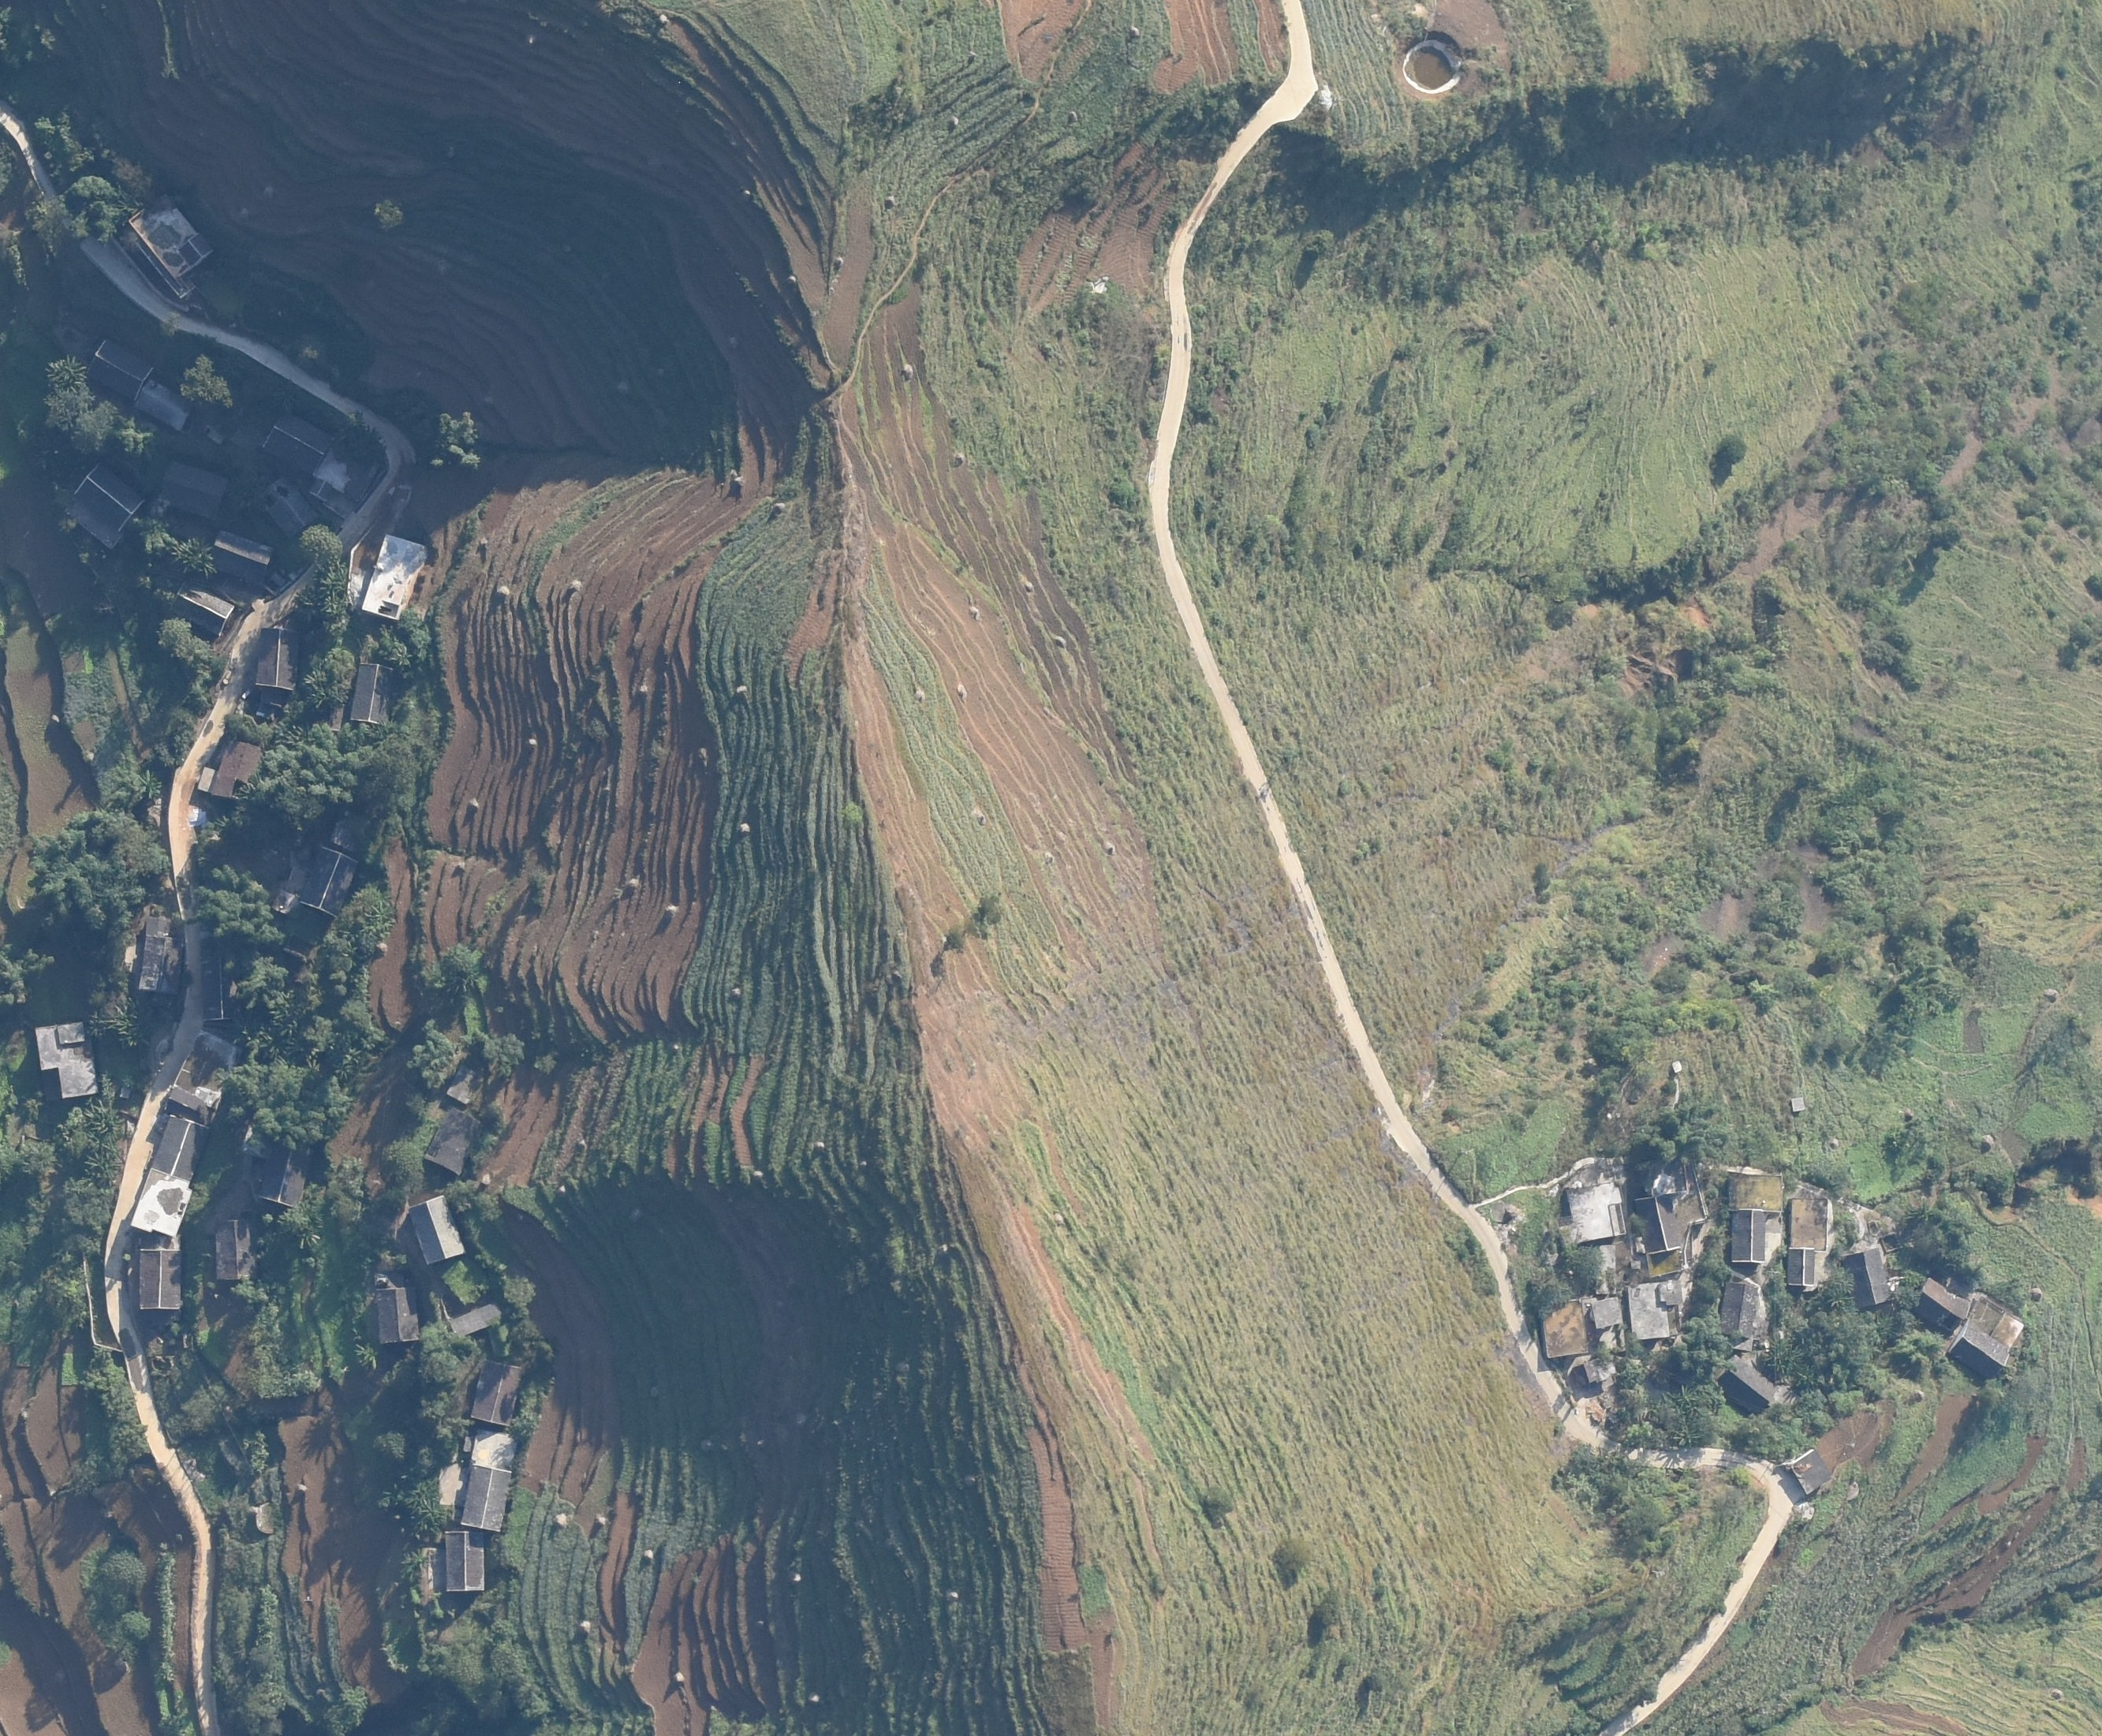building: (126, 199, 210, 288), (358, 533, 428, 618), (279, 842, 354, 913), (35, 1022, 103, 1099), (463, 1434, 515, 1530), (162, 456, 232, 520), (253, 473, 319, 540), (93, 339, 155, 405), (133, 1170, 190, 1240), (405, 1195, 463, 1264), (131, 375, 197, 435), (197, 936, 241, 1025), (79, 466, 143, 522), (428, 1107, 484, 1172), (1566, 1184, 1627, 1242), (196, 742, 258, 798), (468, 1361, 520, 1427), (155, 1114, 210, 1177), (169, 587, 237, 636), (1789, 1198, 1828, 1284), (1947, 1324, 2011, 1374), (1627, 1280, 1683, 1338), (210, 527, 272, 576), (1845, 1242, 1889, 1312), (138, 1245, 185, 1310), (1716, 1357, 1776, 1408), (138, 919, 178, 992), (262, 416, 326, 461), (215, 1219, 260, 1284), (442, 1532, 487, 1593), (1636, 1193, 1681, 1254), (253, 627, 297, 690), (351, 664, 393, 725), (1727, 1170, 1788, 1212), (1538, 1301, 1585, 1355), (258, 1151, 304, 1205), (375, 1285, 417, 1343), (1718, 1282, 1755, 1343), (1915, 1280, 1966, 1324), (449, 1299, 505, 1336), (162, 1088, 213, 1123), (1732, 1212, 1767, 1263), (311, 461, 353, 503), (1791, 1450, 1833, 1491), (443, 1060, 478, 1104), (1596, 1245, 1617, 1294), (1590, 1298, 1622, 1329), (1587, 1354, 1615, 1383), (1791, 1095, 1805, 1111), (1671, 1058, 1683, 1072)
pool: (1411, 45, 1453, 89)
